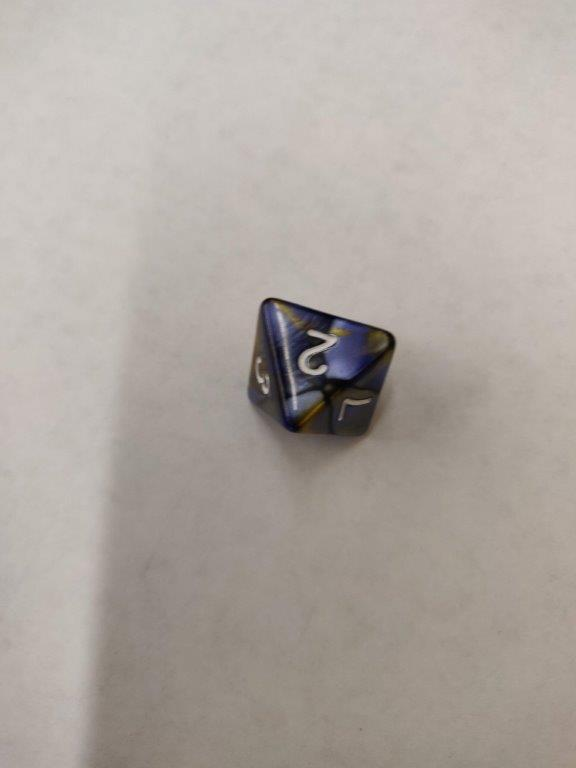d8-2: (244, 293, 398, 443)
